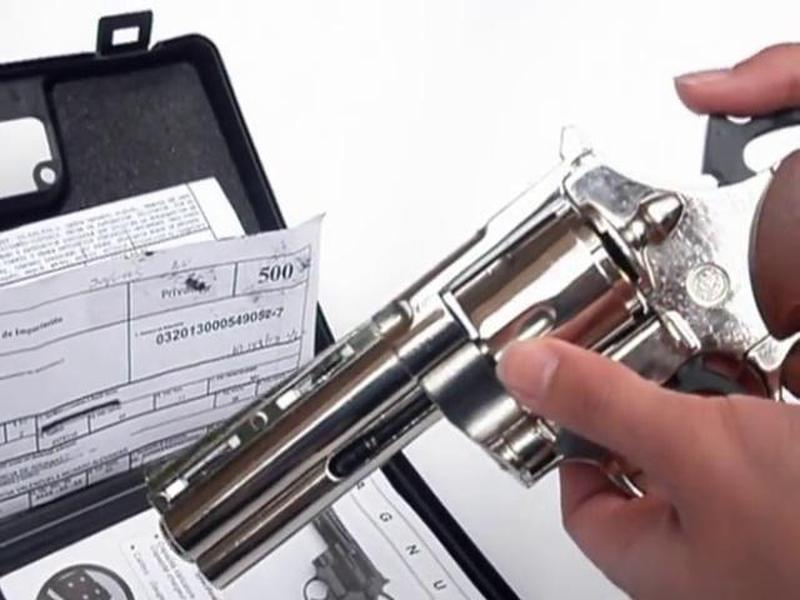Revolver: (137, 128, 800, 552)
